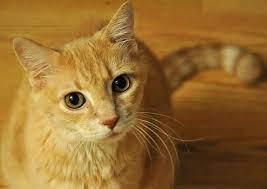Cat: (10, 0, 150, 143)
